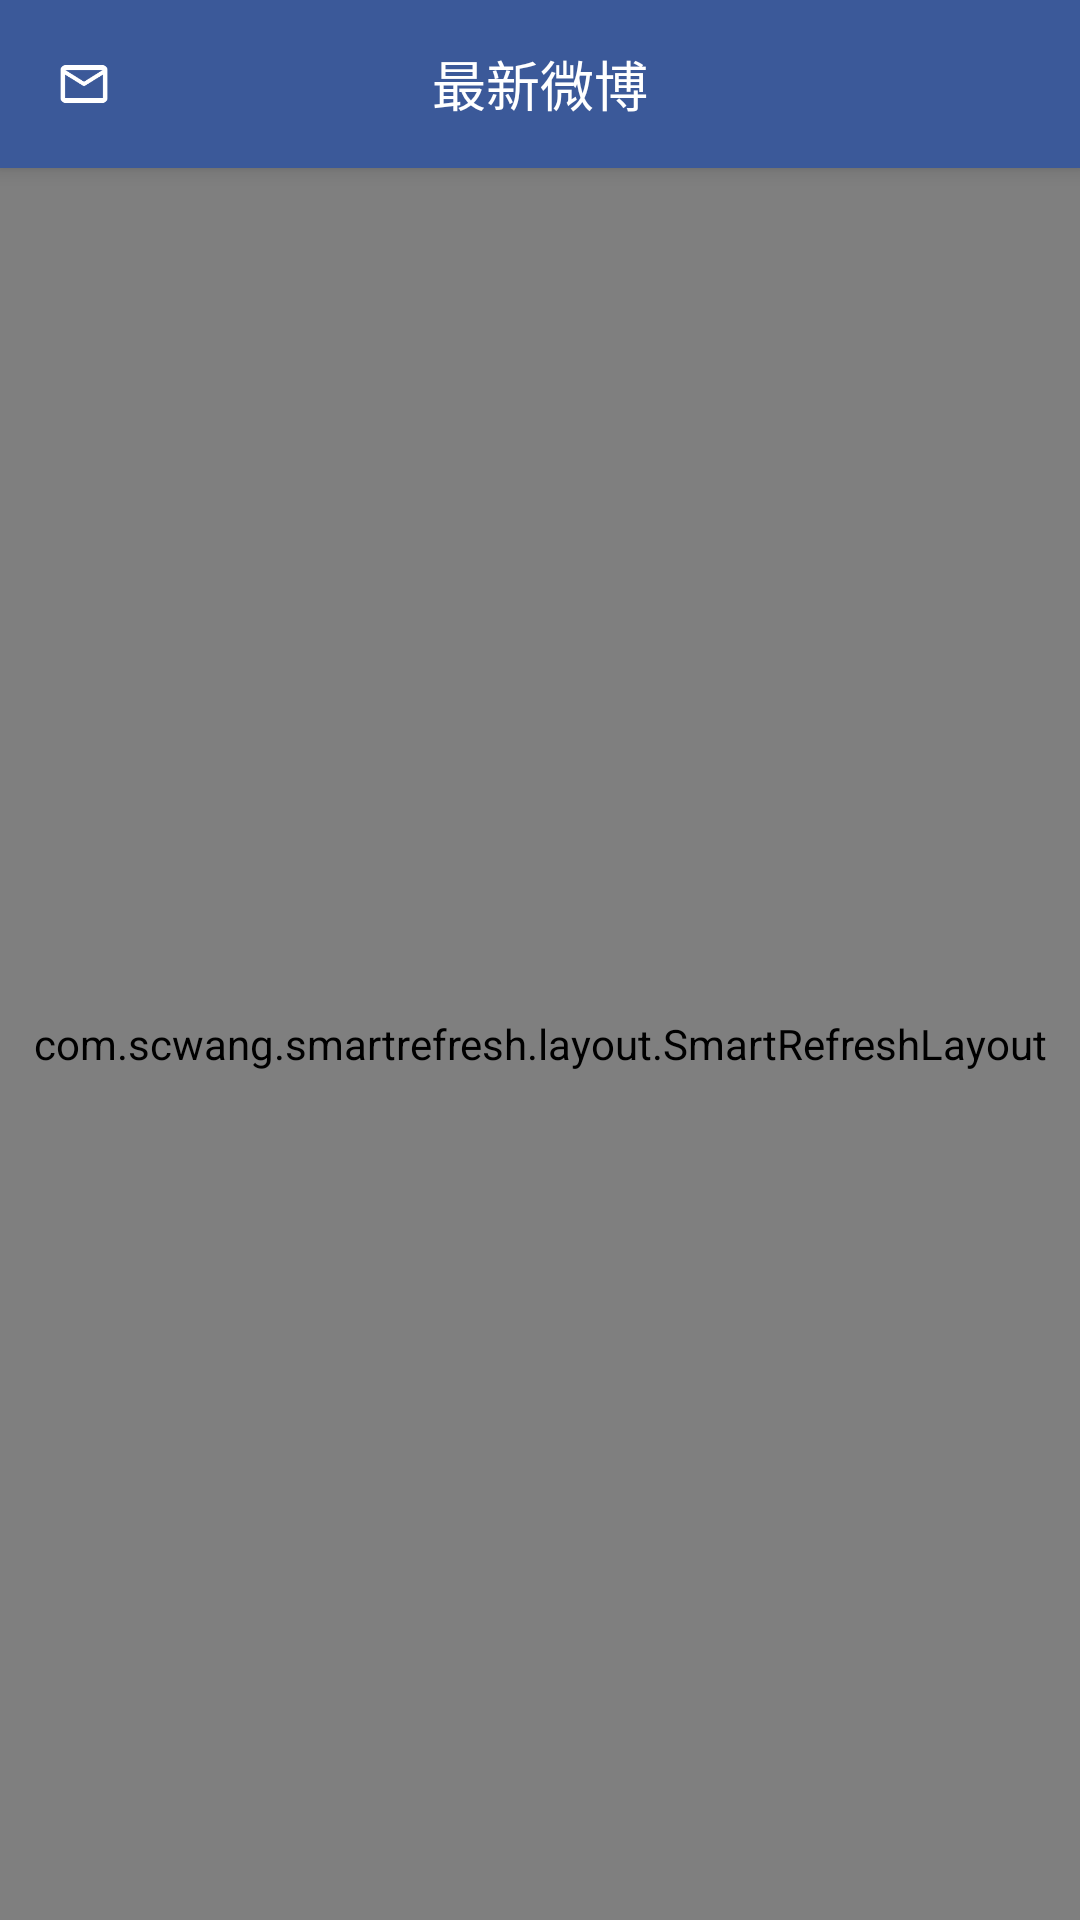

Screen size 1080 x 1920. Icon name, then its box in pixels as (x1, y1, x2, y2):
mail: (60, 65, 108, 103)
